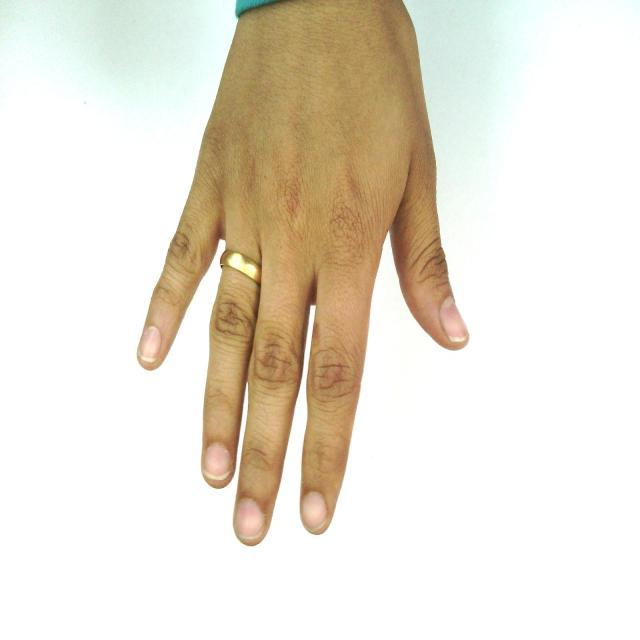Fingernail: (441, 298, 468, 341), (236, 499, 263, 539), (303, 492, 327, 531), (205, 445, 230, 477), (139, 327, 160, 360)
